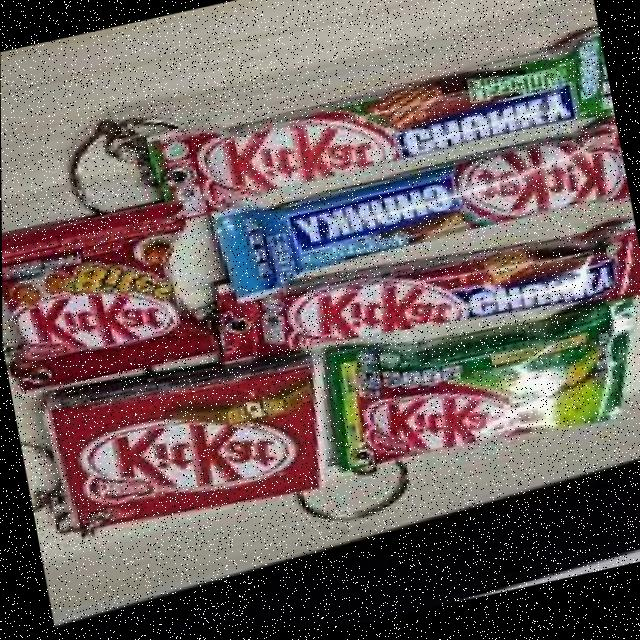kitkat: (154, 40, 617, 225), (219, 128, 634, 308), (215, 225, 640, 375), (49, 350, 341, 539), (329, 306, 640, 476), (1, 208, 213, 399)
